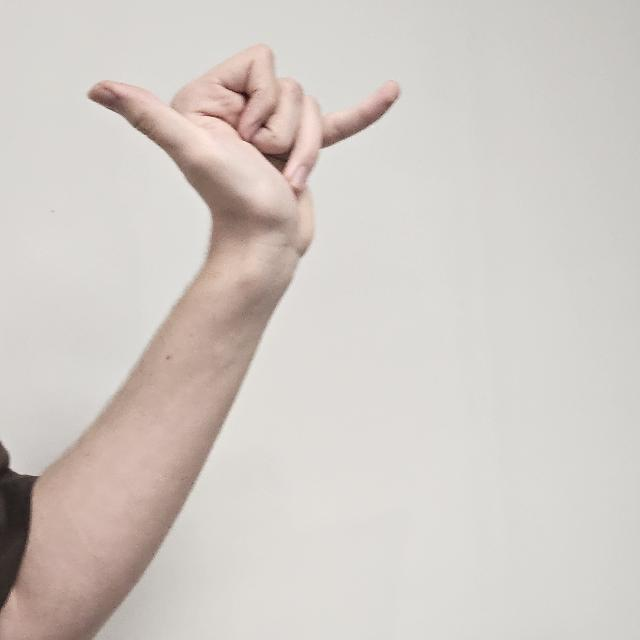Direita: (76, 23, 472, 264)
